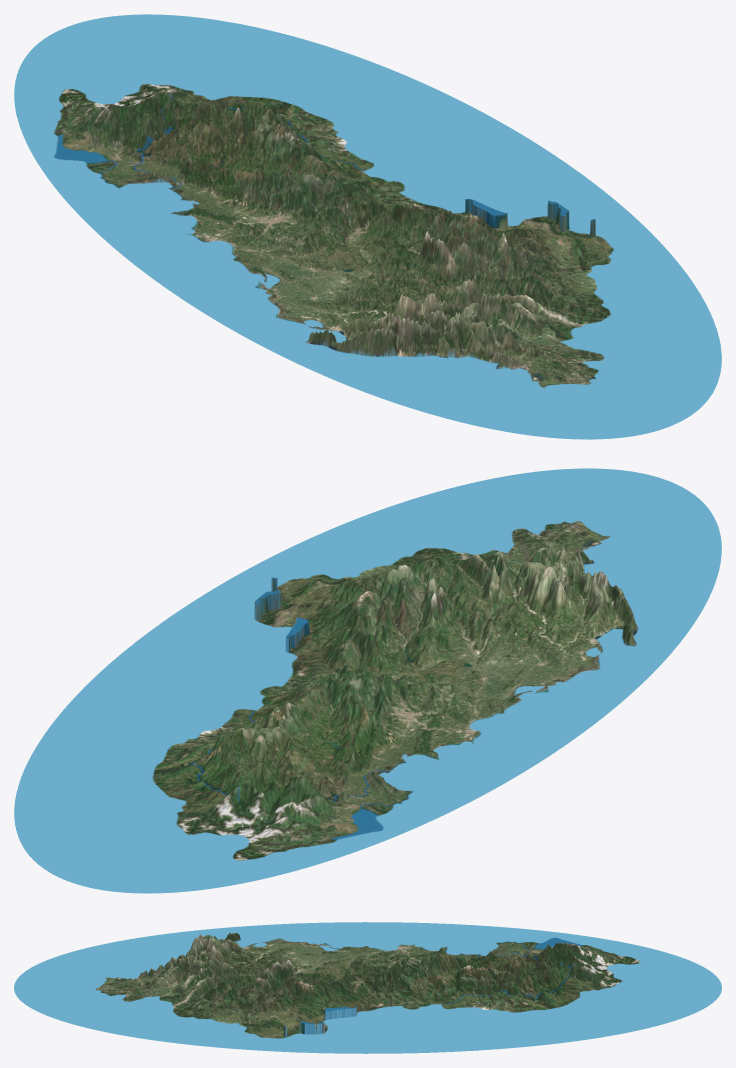
Rendered from ALB-previa-terrain.glb.
The picture shows the model from 3 angles, top to bottom: view 1: azimuth 30°, elevation 25°; view 2: azimuth 150°, elevation 25°; view 3: azimuth 270°, elevation 25°; orthographic projection. The views are drawn at different scales.
Visible parts, largest first — view 1: Albânia; view 2: Albânia; view 3: Albânia.
Part boxes in pixels (x1,y1,x2,y2): Albânia: (14,14,721,439); Albânia: (14,468,721,893); Albânia: (14,922,721,1053).
Size of the model in its own units: 1.01 by 0.0967 by 2.28.
1 material, 1 textured.
